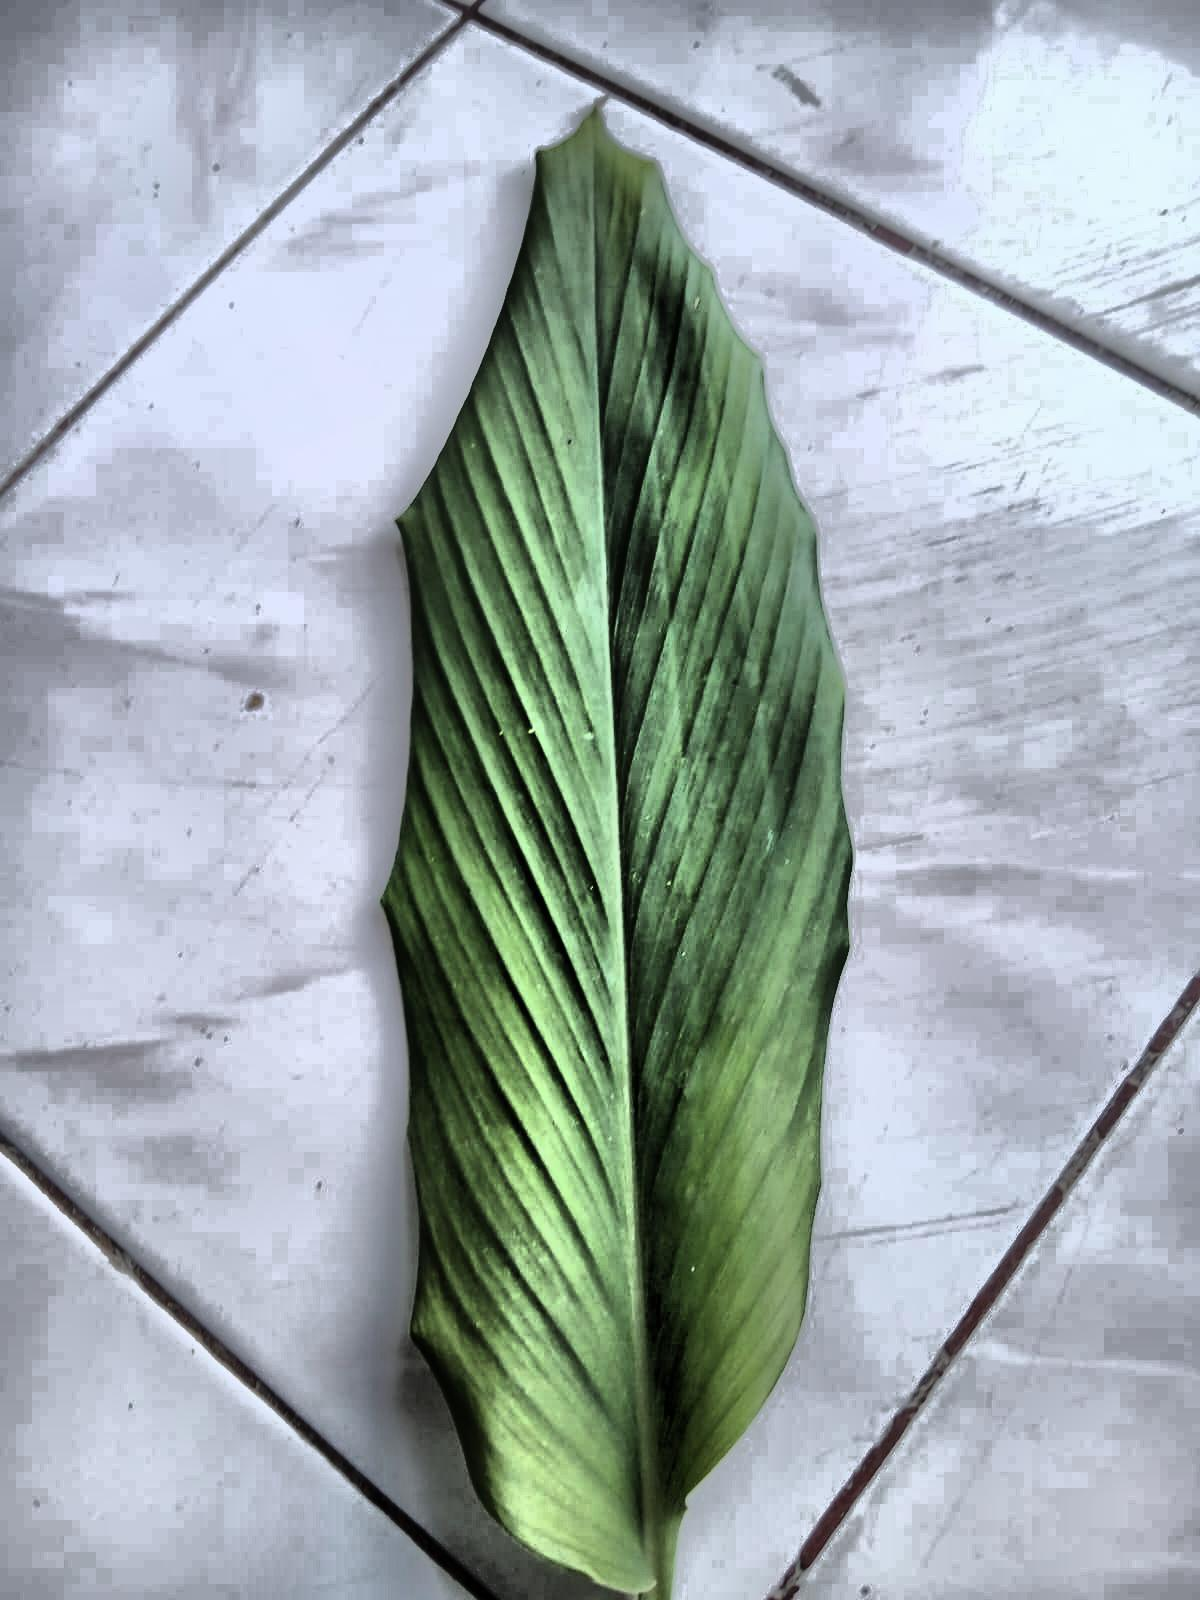daun kunyit: (382, 112, 851, 1599)
